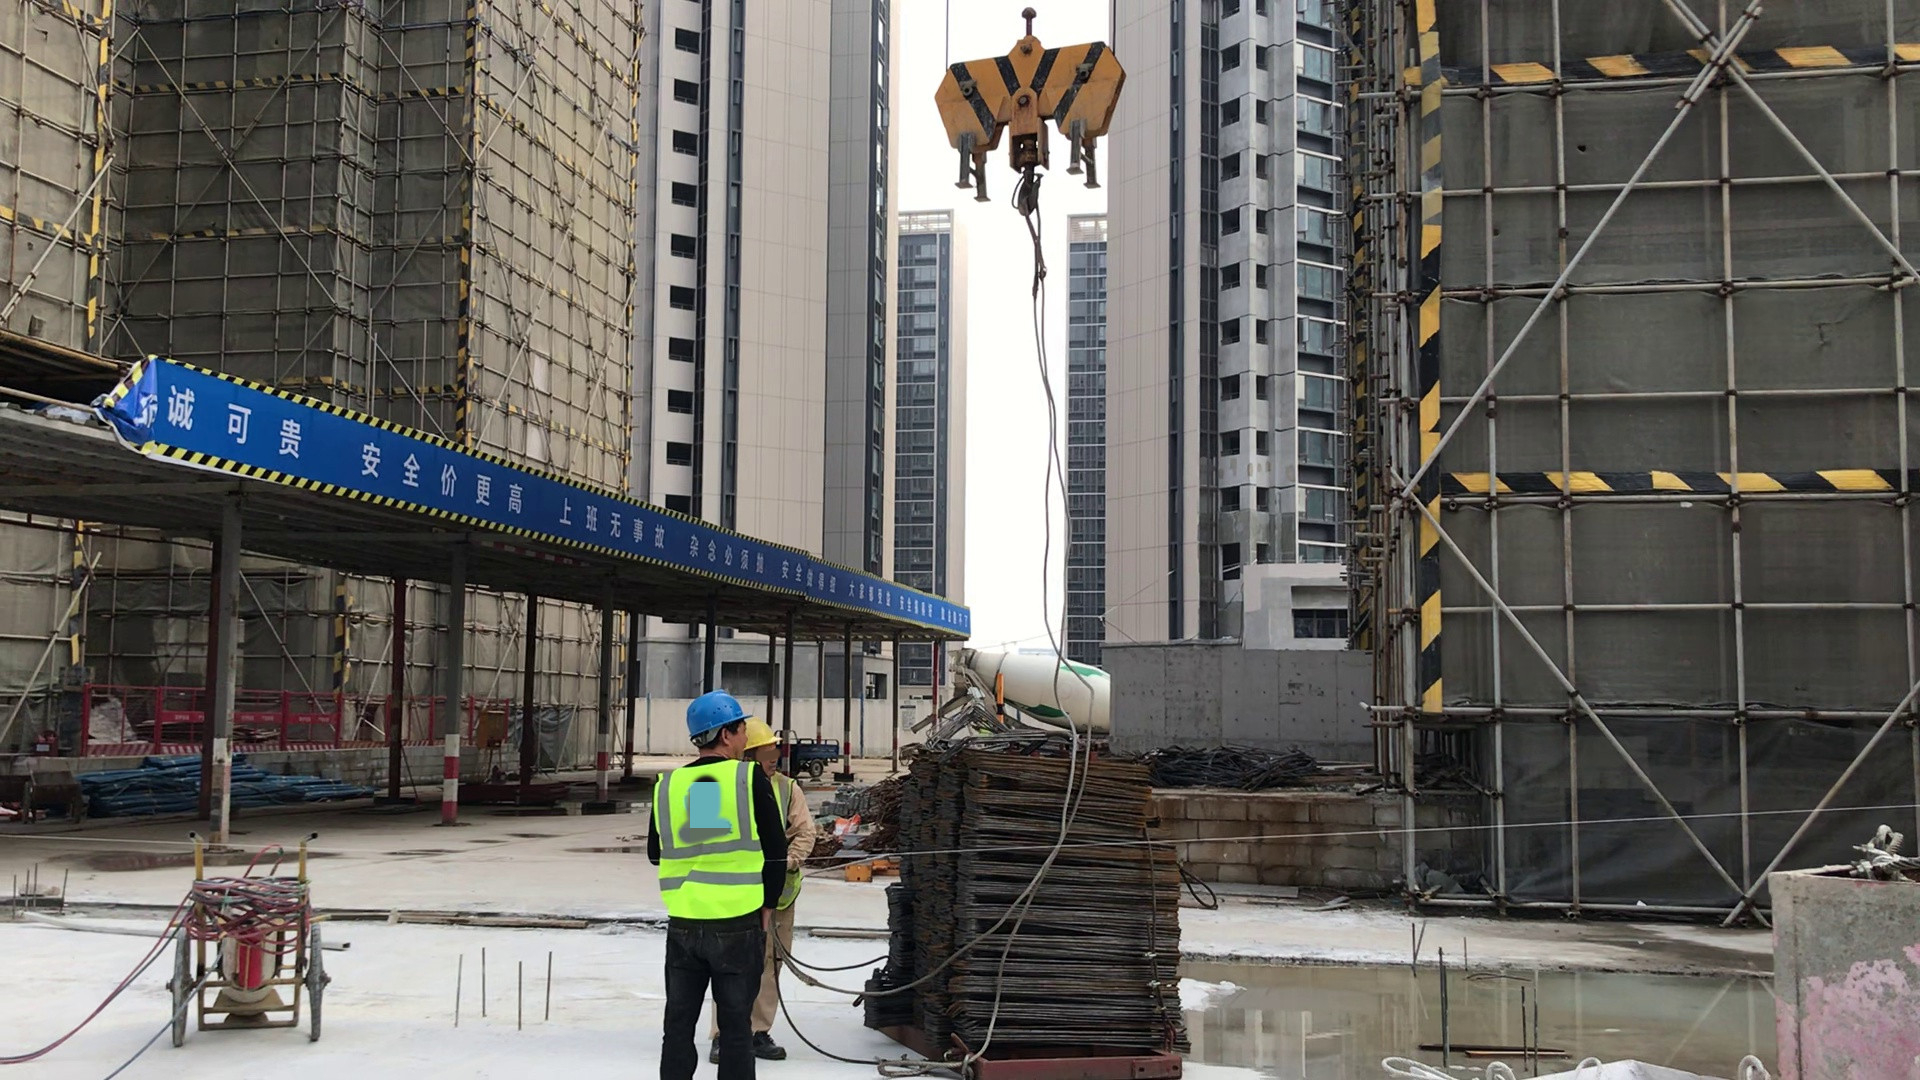helmet: (681, 686, 750, 741), (740, 716, 783, 751)
hook: (925, 4, 1131, 206)
person: (645, 689, 794, 1080), (747, 712, 806, 1064)
rebar: (863, 743, 1198, 1059)
slogan: (121, 346, 971, 683)
vest: (647, 756, 765, 925)
